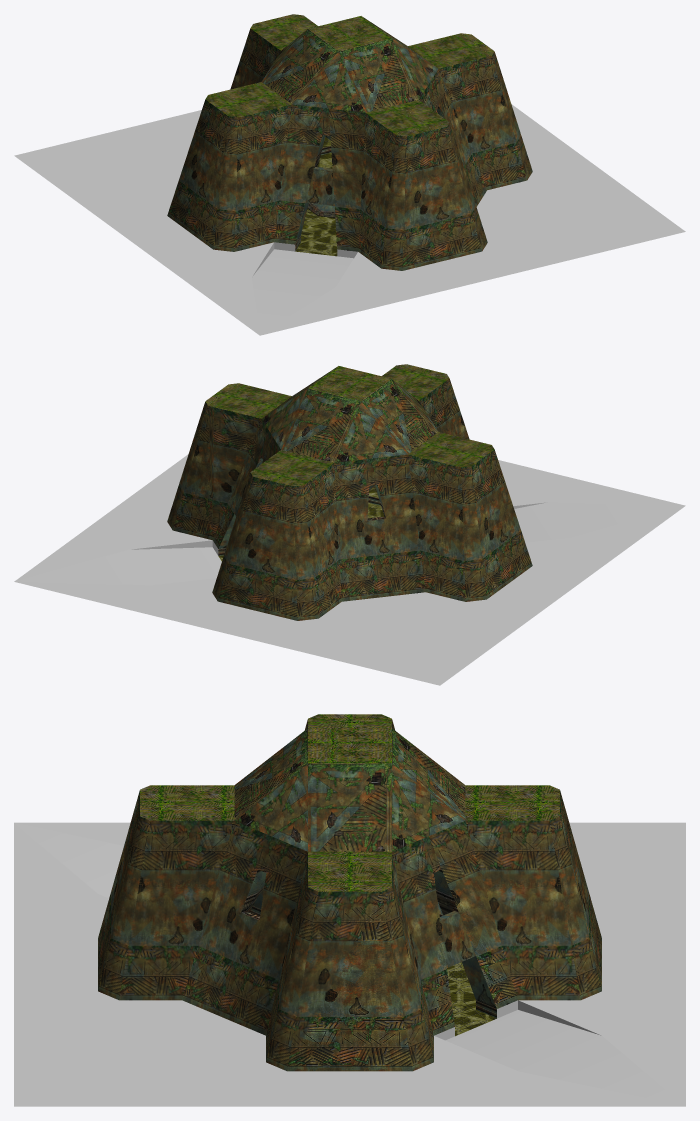
Rendered from mbruin03.FBX.
3 renders of one model, top to bottom at view 1: azimuth 30°, elevation 25°; view 2: azimuth 150°, elevation 25°; view 3: azimuth 270°, elevation 25°, orthographic. The views are drawn at different scales.
Visible parts, largest first — view 1: mbruin03, terrain, dome, roof, floor; view 2: mbruin03, terrain, dome, roof; view 3: terrain, mbruin03, dome, roof, interior001, floor.
Part boxes in pixels (<box>): mbruin03: <box>167,28,532,270</box>; terrain: <box>14,104,685,335</box>; dome: <box>261,17,438,112</box>; roof: <box>205,14,494,136</box>; floor: <box>295,137,337,256</box>; mbruin03: <box>167,378,532,620</box>; terrain: <box>14,454,685,685</box>; dome: <box>261,367,438,462</box>; roof: <box>205,364,494,486</box>; terrain: <box>14,822,685,1106</box>; mbruin03: <box>98,719,601,1071</box>; dome: <box>234,728,465,851</box>; roof: <box>140,714,559,891</box>; interior001: <box>241,869,496,1008</box>; floor: <box>447,962,496,1036</box>.
Bounding box in the file's own units: 64 × 24.67 × 64.
